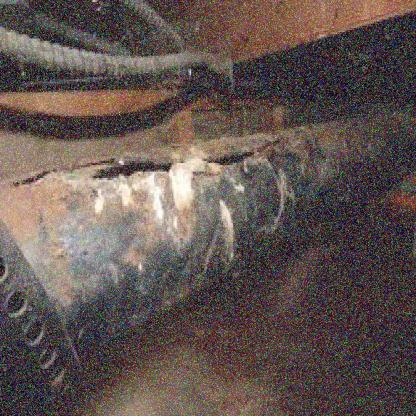burst: (200, 140, 284, 181), (101, 157, 178, 188)
